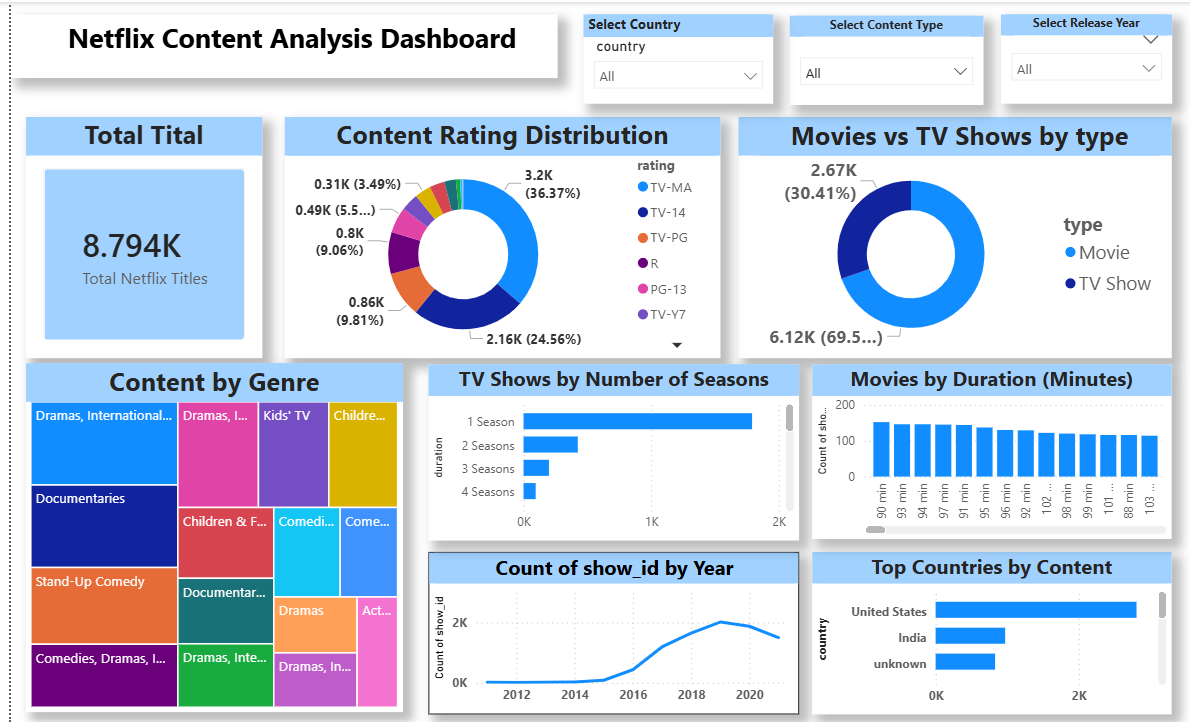

What the dashboard file says about the page in this screenshot:
{"tool":"powerbi","page":{"name":"Page 1","canvas":[1280,720],"ordinal":0},"visuals":[{"type":"cardVisual","title":"Total Tital","fields":{"Data":["Count(dynamix_project project1.show_id)"]},"box":[15,115,235,240],"z":0},{"type":"donutChart","fields":{"Category":["dynamix_project project1.type"],"Y":["Count(dynamix_project project1.show_id)"]},"box":[723.8,115,431.2,240],"z":1000},{"type":"lineChart","fields":{"Y":["CountNonNull(dynamix_project project1.show_id)"],"Category":["dynamix_project project1.date_added.Variation.Date Hierarchy.Year"]},"box":[415,547.5,368.8,161.2],"z":2000},{"type":"clusteredBarChart","title":"Top Countries by Content","fields":{"Category":["dynamix_project project1.country"],"Y":["CountNonNull(dynamix_project project1.show_id)"]},"box":[797.5,547.5,357.5,161.2],"z":2001},{"type":"donutChart","title":"Content Rating Distribution","fields":{"Category":["dynamix_project project1.rating"],"Y":["Count(dynamix_project project1.show_id)"]},"box":[272.5,115,433.8,240],"z":2002},{"type":"clusteredBarChart","title":"TV Shows by Number of Seasons","fields":{"Category":["dynamix_project project1.duration"],"Y":["Count(dynamix_project project1.show_id)"]},"box":[415,361.2,368.8,175],"z":2003},{"type":"columnChart","title":"Movies by Duration (Minutes)","fields":{"Category":["dynamix_project project1.duration"],"Y":["CountNonNull(dynamix_project project1.show_id)"]},"box":[797.5,361.2,357.5,173.8],"z":2004},{"type":"treemap","title":"Content by Genre","fields":{"Values":["Count(dynamix_project project1.show_id)"],"Group":["dynamix_project project1.listed_in"]},"box":[15,360,375,347.5],"z":2005},{"type":"slicer","title":"Select Content Type","fields":{"Values":["dynamix_project project1.type"]},"box":[775,13.8,192.5,88.8],"z":2006},{"type":"slicer","title":"Select Release Year","fields":{"Values":["dynamix_project project1.release_year"]},"box":[985,12.5,170,88.8],"z":2007},{"type":"slicer","title":"Select Country","fields":{"Values":["dynamix_project project1.country"]},"box":[570,12.5,188.8,88.8],"z":2008},{"type":"textbox","box":[0,12.5,544,63],"z":2009}]}

Visuals, with their boxes on the page's 1280x720 design canvas (x1, y1, x2, y2). These are canvas units, not pixel positions in the 1190x722 screenshot, which may show the page scaled, cropped or inside an application window:
"Total Tital" cardVisual: x1=15 y1=115 x2=250 y2=355
donutChart - dynamix_project project1.type x Count(dynamix_project project1.show_id): x1=724 y1=115 x2=1155 y2=355
lineChart - CountNonNull(dynamix_project project1.show_id) x dynamix_project project1.date_added.Variation.Date Hierarchy.Year: x1=415 y1=548 x2=784 y2=709
"Top Countries by Content" clusteredBarChart: x1=798 y1=548 x2=1155 y2=709
"Content Rating Distribution" donutChart: x1=272 y1=115 x2=706 y2=355
"TV Shows by Number of Seasons" clusteredBarChart: x1=415 y1=361 x2=784 y2=536
"Movies by Duration (Minutes)" columnChart: x1=798 y1=361 x2=1155 y2=535
"Content by Genre" treemap: x1=15 y1=360 x2=390 y2=708
"Select Content Type" slicer: x1=775 y1=14 x2=968 y2=103
"Select Release Year" slicer: x1=985 y1=12 x2=1155 y2=101
"Select Country" slicer: x1=570 y1=12 x2=759 y2=101
textbox: x1=0 y1=12 x2=544 y2=76
